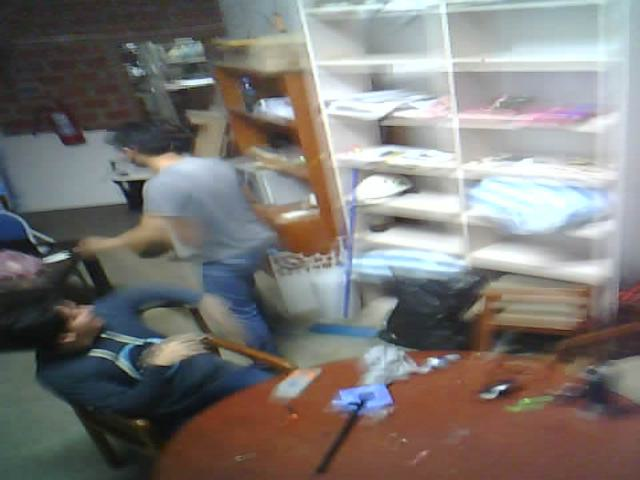person: (69, 96, 316, 356), (14, 279, 291, 476)
